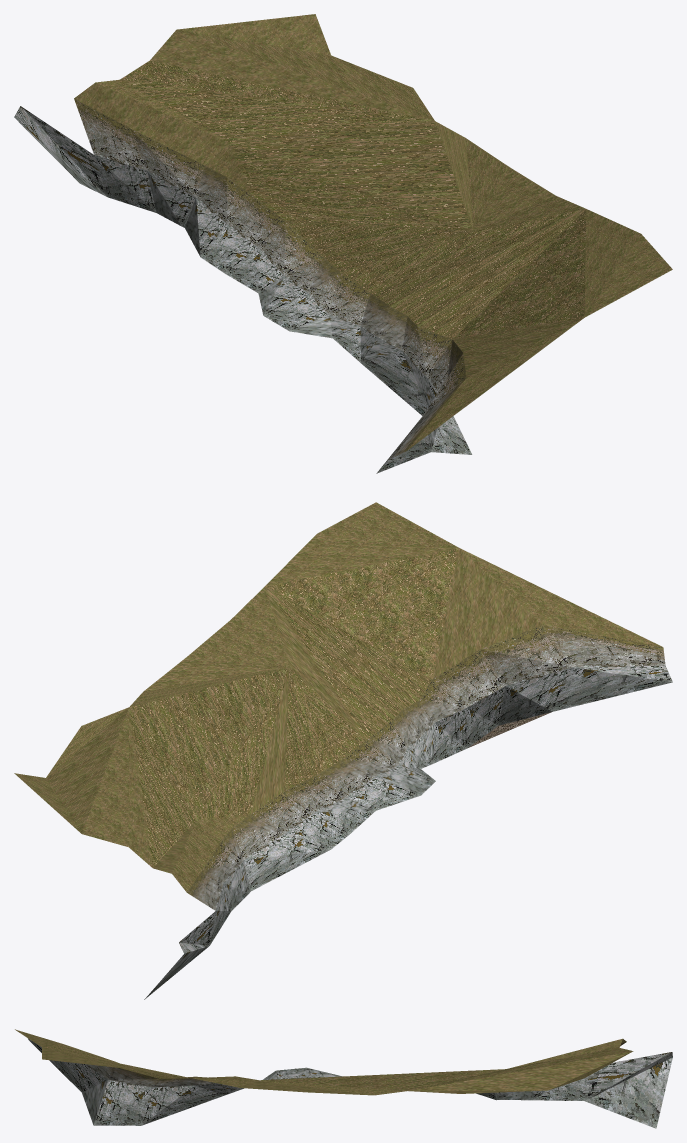
Rendered from lodcunts15.obj.
3 views of the same model, one above another, from view 1: azimuth 30°, elevation 25°; view 2: azimuth 150°, elevation 25°; view 3: azimuth 270°, elevation 25° (orthographic). The views are drawn at different scales.
Visible parts, largest first — view 1: LODcunts15; view 2: LODcunts15; view 3: LODcunts15.
Part boxes in pixels (left/top/right/bottom): LODcunts15: left=14, top=14, right=672, bottom=473; LODcunts15: left=14, top=502, right=672, bottom=999; LODcunts15: left=15, top=1029, right=672, bottom=1128.
Bounding box in the file's own units: 106 × 54.61 × 249.
4 materials, 4 textured.
